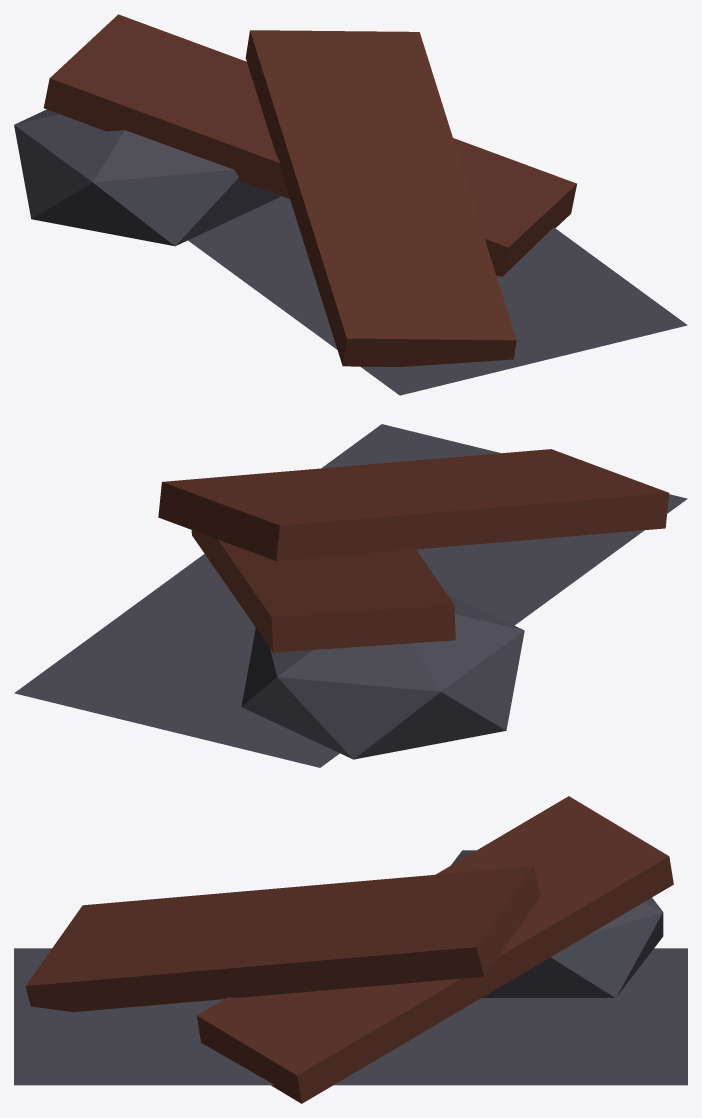
Rendered from Junk.fbx.
3 renders of one model, top to bottom at view 1: azimuth 30°, elevation 25°; view 2: azimuth 150°, elevation 25°; view 3: azimuth 270°, elevation 25°, orthographic. The views are drawn at different scales.
Parts seen in each view (by area): view 1: Plane; view 2: Plane; view 3: Plane.
Boxes of the visible parts, x1,y1,x2,y2 form: Plane: [14, 14, 687, 395]; Plane: [14, 424, 687, 767]; Plane: [14, 796, 687, 1103].
Size of the model in its own units: 42.2 by 16.79 by 60.
